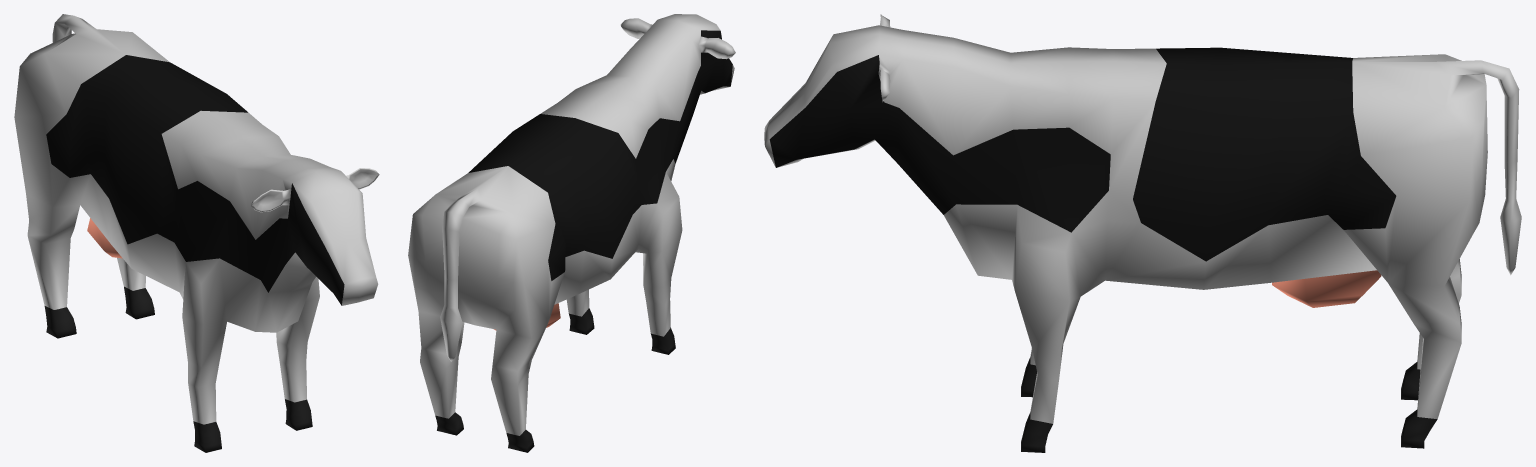
Rendered from Cow.fbx.
The picture shows the model from 3 angles, left to right: view 1: azimuth 30°, elevation 25°; view 2: azimuth 150°, elevation 25°; view 3: azimuth 270°, elevation 25°; orthographic projection. The views are drawn at different scales.
Visible parts, largest first — view 1: Cow; view 2: Cow; view 3: Cow.
Part boxes in pixels (<box>): Cow: <box>14,14,379,452</box>; Cow: <box>408,14,735,452</box>; Cow: <box>764,14,1521,452</box>.
Bounding box in the file's own units: 0.7804 × 1.79 × 3.18.
